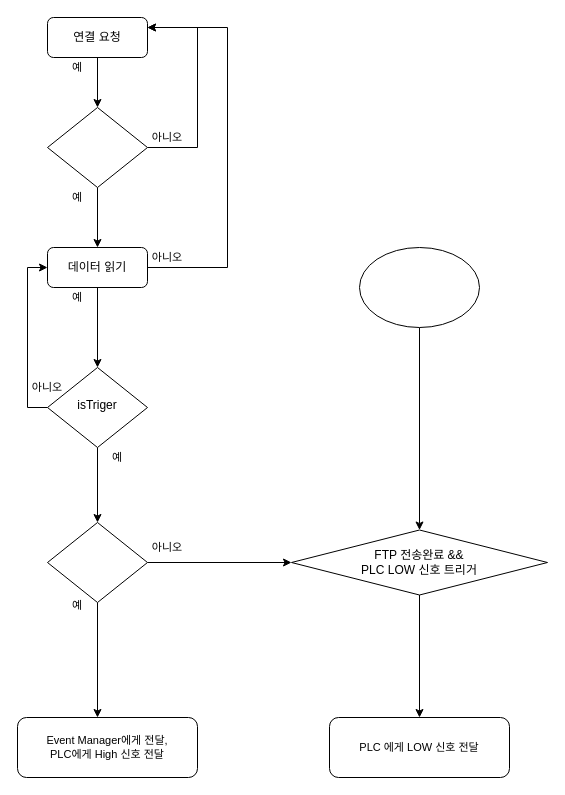
This 565x795 diagram has some shape labels left out. The centre of each missing label's shape, as x and y in pixels:
"Event Manager" belongs at (x=419, y=287).
"isHigh" belongs at (x=97, y=562).
"연결 가능?" belongs at (x=97, y=147).
